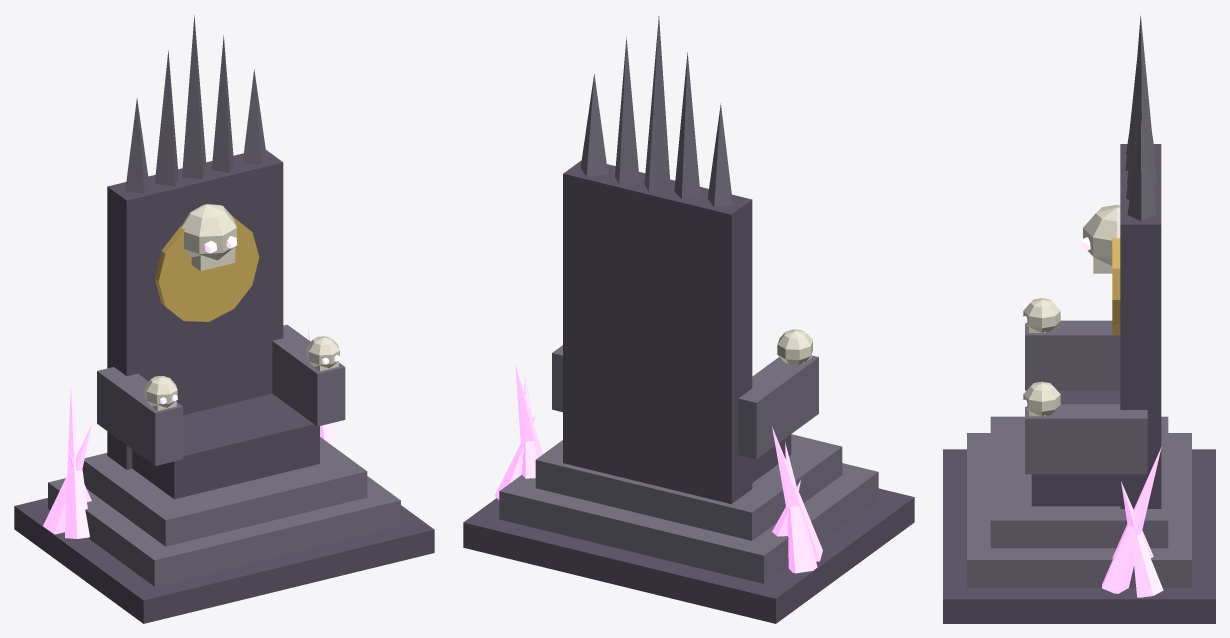
The model's file is lich_throne.glb.
The picture shows the model from 3 angles, left to right: view 1: azimuth 30°, elevation 25°; view 2: azimuth 150°, elevation 25°; view 3: azimuth 270°, elevation 25°; orthographic projection. The views are drawn at different scales.
Visible parts, largest first — view 1: lich_throne; view 2: lich_throne; view 3: lich_throne.
Part boxes in pixels (bbox=[...]): lich_throne: bbox=[14, 15, 434, 623]; lich_throne: bbox=[463, 16, 914, 623]; lich_throne: bbox=[943, 15, 1215, 623].
Size of the model in its own units: 5.26 by 8.65 by 4.
